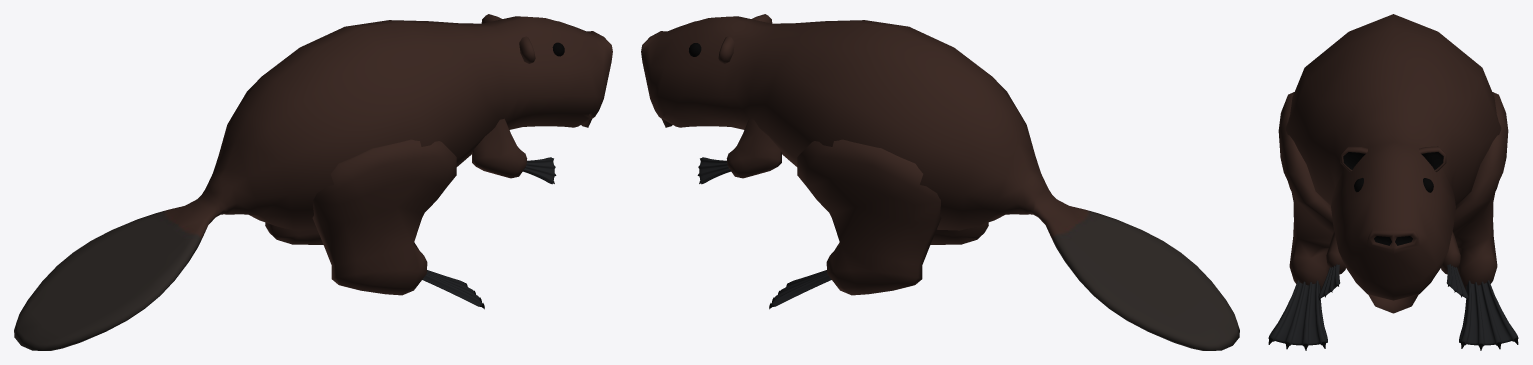
The model's file is Beaver.FBX.
The picture shows the model from 3 angles, left to right: view 1: azimuth 30°, elevation 25°; view 2: azimuth 150°, elevation 25°; view 3: azimuth 270°, elevation 25°; orthographic projection. The views are drawn at different scales.
Parts seen in each view (by area): view 1: Plane001; view 2: Plane001; view 3: Plane001.
Part boxes in pixels (box(x1,y1,x2,y2)): Plane001: box(14, 14, 612, 350); Plane001: box(641, 14, 1239, 350); Plane001: box(1268, 14, 1518, 350).
Bounding box in the file's own units: 20.31 × 8.56 × 6.83.
